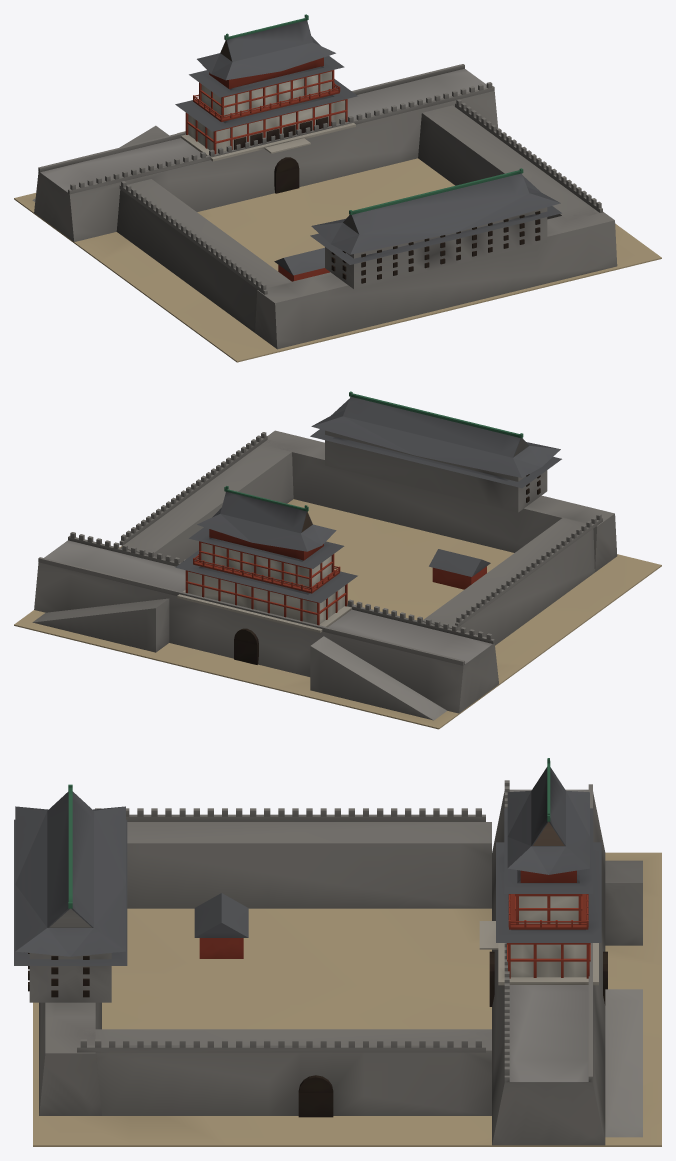
File: ming-gate.glb
3 views of the same model, one above another, from view 1: azimuth 30°, elevation 25°; view 2: azimuth 150°, elevation 25°; view 3: azimuth 270°, elevation 25° (orthographic). The views are drawn at different scales.
Parts seen in each view (by area): view 1: p0_walls, p2_roofs, p1_halls; view 2: p0_walls, p2_roofs, p1_halls; view 3: p0_walls, p2_roofs, p1_halls.
Part boxes in pixels (x1,y1,x2,y2): p0_walls: (14,64,661,362); p2_roofs: (175,14,561,264); p1_halls: (177,70,547,289); p0_walls: (14,430,661,729); p2_roofs: (175,391,561,602); p1_halls: (177,430,547,664); p0_walls: (33,780,661,1146); p2_roofs: (14,758,601,965); p1_halls: (28,893,607,1117).
Bounding box in the file's own units: 110 × 37.69 × 103.
